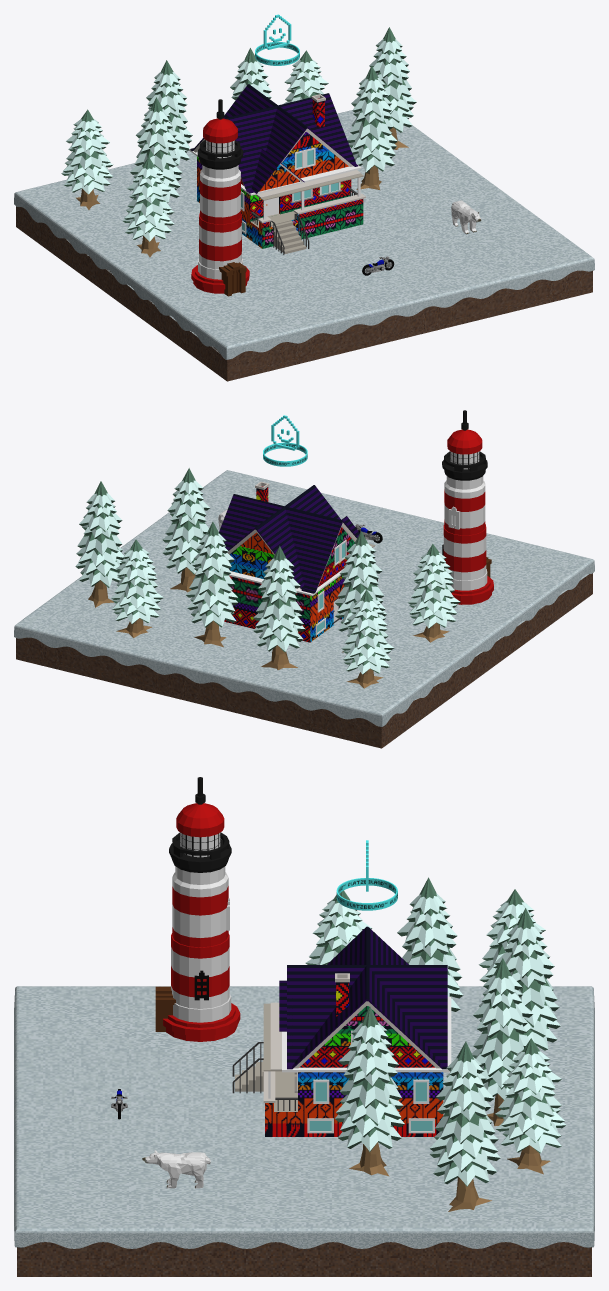
The picture shows the model from 3 angles, top to bottom: view 1: azimuth 30°, elevation 25°; view 2: azimuth 150°, elevation 25°; view 3: azimuth 270°, elevation 25°; orthographic projection. The views are drawn at different scales.
Visible parts, largest first — view 1: Cube.003, Cube.966, OBJRANDOM_LIGHTHOUSE, TYPE_PREMIUM, ANIMAL_OSO_POLAR; view 2: Cube.003, Cube.966, OBJRANDOM_LIGHTHOUSE, TYPE_PREMIUM; view 3: Cube.003, Cube.966, OBJRANDOM_LIGHTHOUSE, ANIMAL_OSO_POLAR, TYPE_PREMIUM.
Part boxes in pixels (<box>): Cube.003: <box>14,27,594,381</box>; Cube.966: <box>189,84,365,254</box>; OBJRANDOM_LIGHTHOUSE: <box>191,99,249,296</box>; TYPE_PREMIUM: <box>255,14,299,65</box>; ANIMAL_OSO_POLAR: <box>451,200,481,234</box>; Cube.003: <box>14,468,594,748</box>; Cube.966: <box>219,481,377,642</box>; OBJRANDOM_LIGHTHOUSE: <box>442,410,493,604</box>; TYPE_PREMIUM: <box>263,415,307,466</box>; Cube.003: <box>14,877,594,1276</box>; Cube.966: <box>232,926,451,1136</box>; OBJRANDOM_LIGHTHOUSE: <box>155,777,240,1041</box>; ANIMAL_OSO_POLAR: <box>142,1150,210,1188</box>; TYPE_PREMIUM: <box>336,840,397,910</box>.
Bounding box in the file's own units: 4040 × 2568 × 4040.
38 materials, 8 textured.
